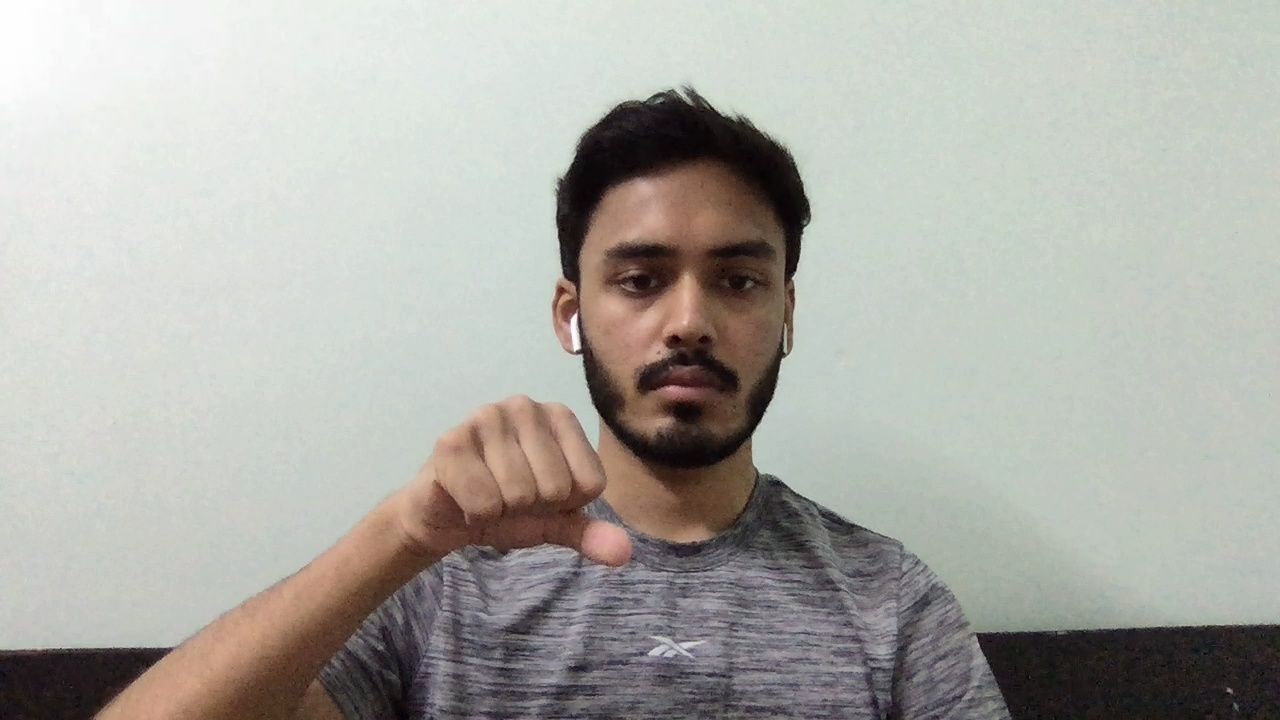Yes: (387, 380, 654, 594)
